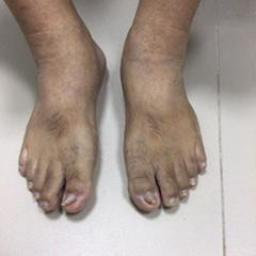Dorsal View -Both Feet-: (12, 19, 218, 227)
